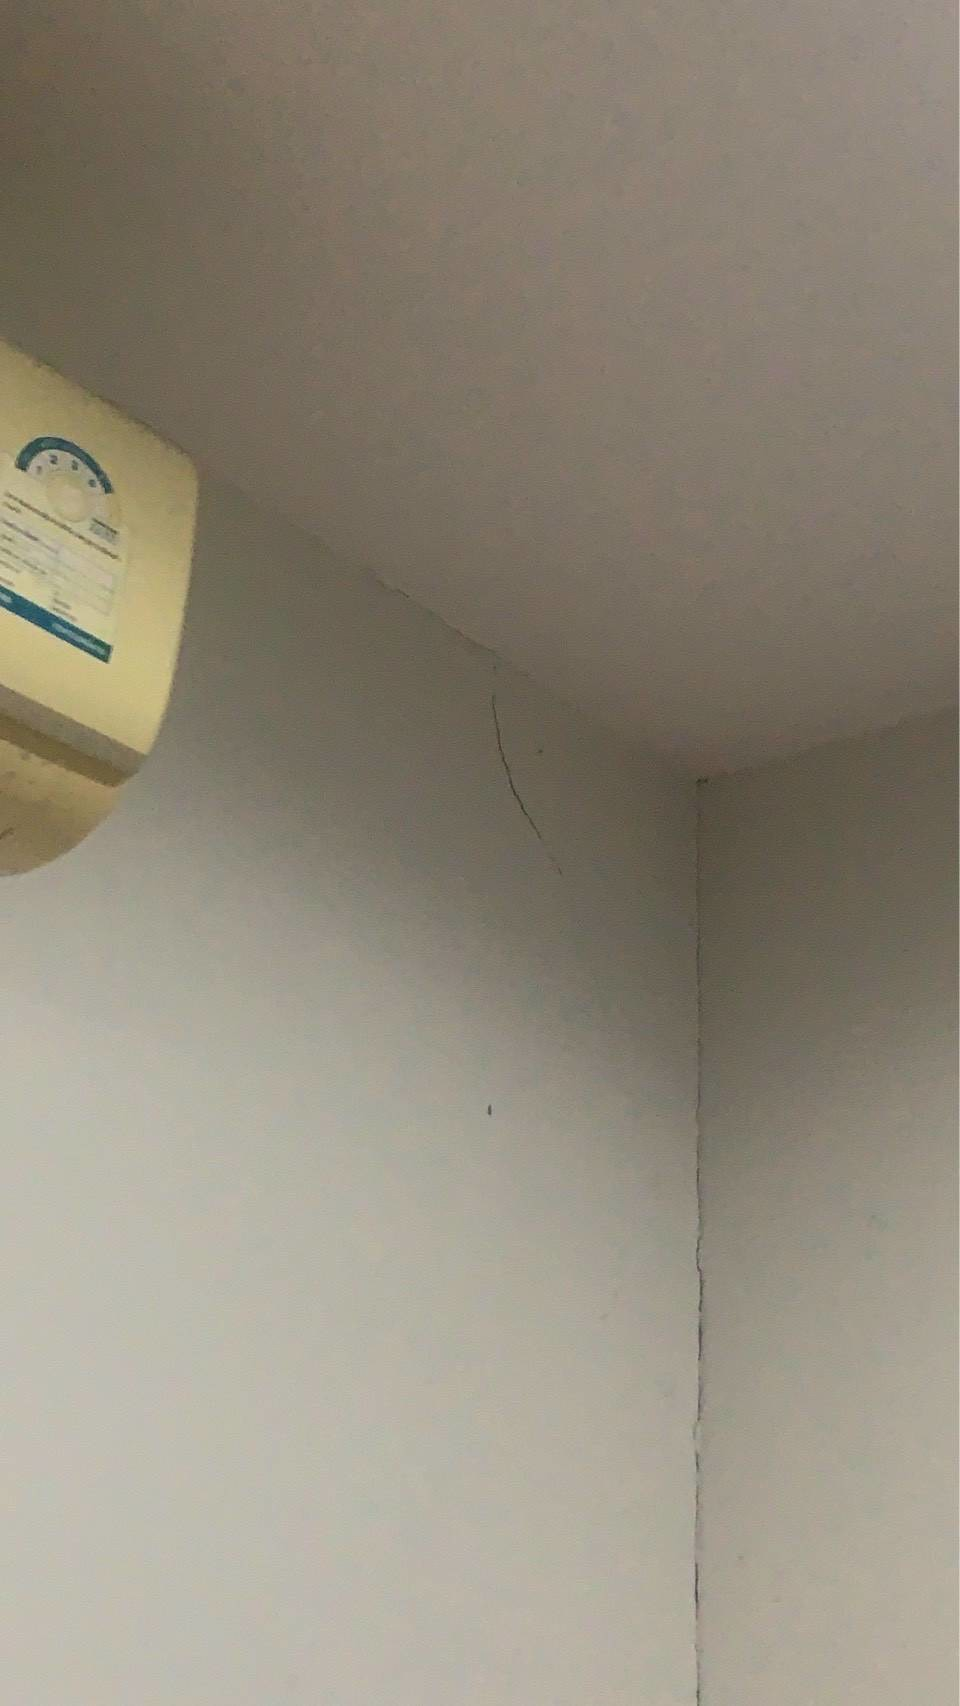Low: (458, 658, 697, 1237)
